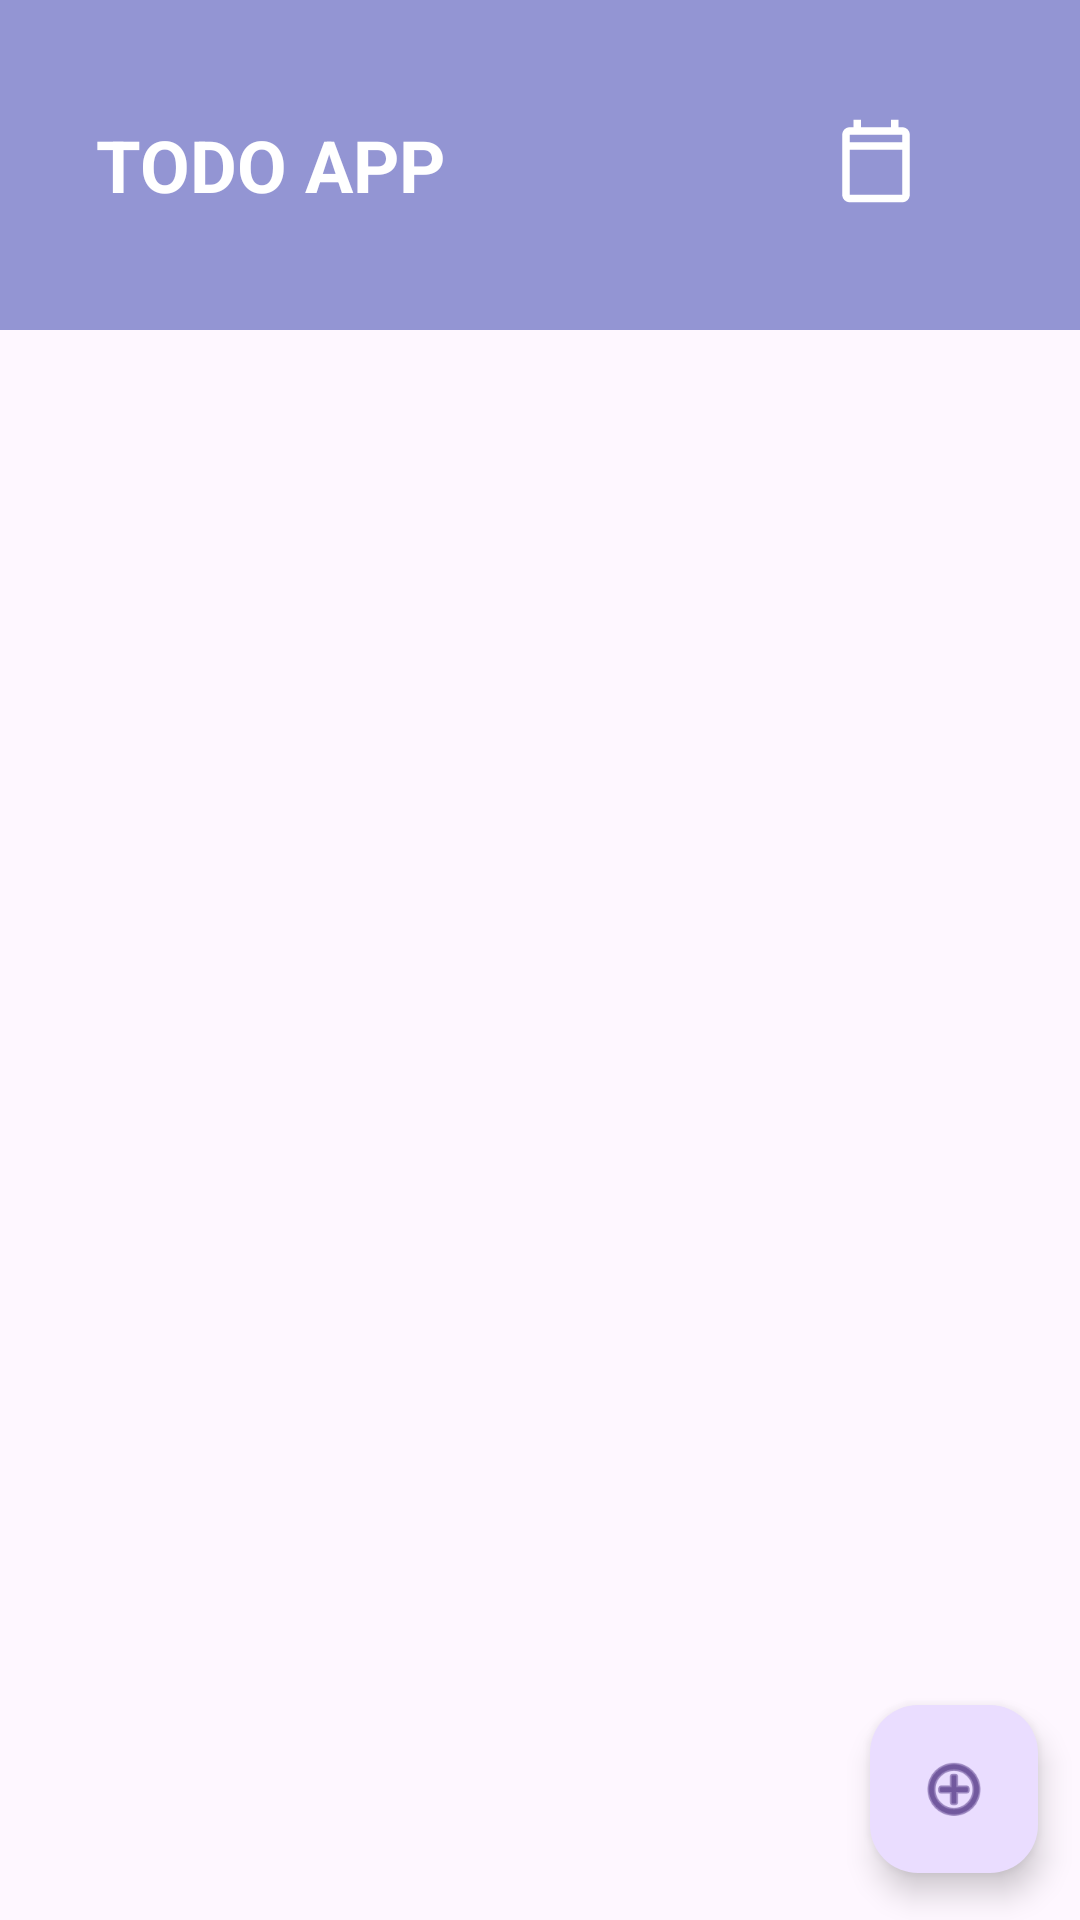

Where icons sit on this 1080w x 1920h app screen, as Rect(x1, y1, x2, y2):
add: Rect(870, 1705, 1038, 1873)
calendar: Rect(842, 119, 910, 203)
